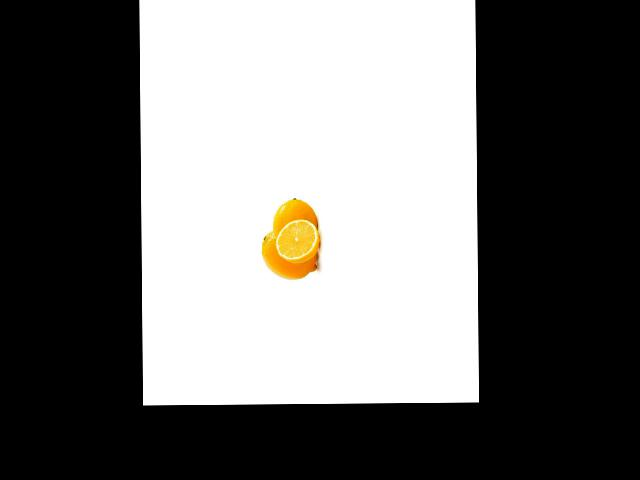lemon: (271, 199, 319, 250)
